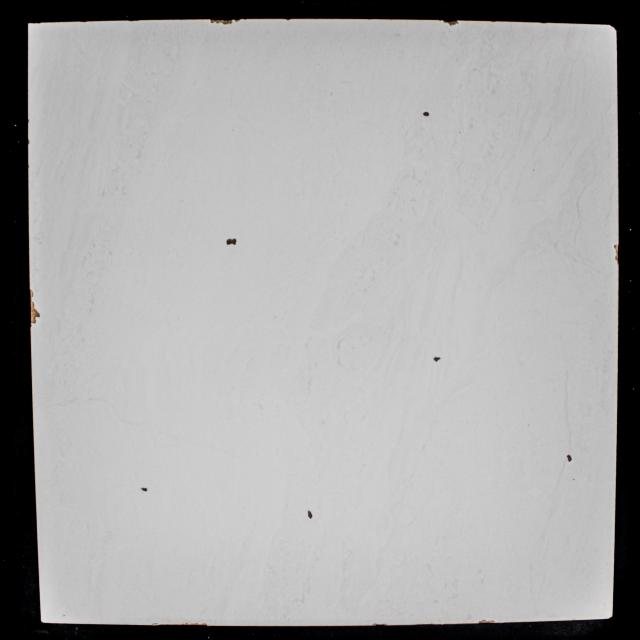edge-chipping: (209, 19, 233, 25), (30, 308, 41, 318), (182, 622, 208, 626), (478, 619, 496, 624), (448, 20, 459, 26), (29, 289, 34, 299), (372, 623, 387, 626), (610, 24, 616, 31), (30, 300, 35, 307), (30, 319, 37, 324), (614, 244, 618, 250), (615, 254, 619, 260), (234, 19, 241, 22), (442, 20, 448, 23), (615, 250, 619, 254), (608, 616, 613, 619), (616, 261, 619, 266), (28, 138, 30, 145)
hole: (226, 238, 237, 245), (566, 454, 572, 462), (433, 357, 441, 362), (423, 111, 429, 117), (308, 510, 312, 519), (141, 487, 148, 492)
